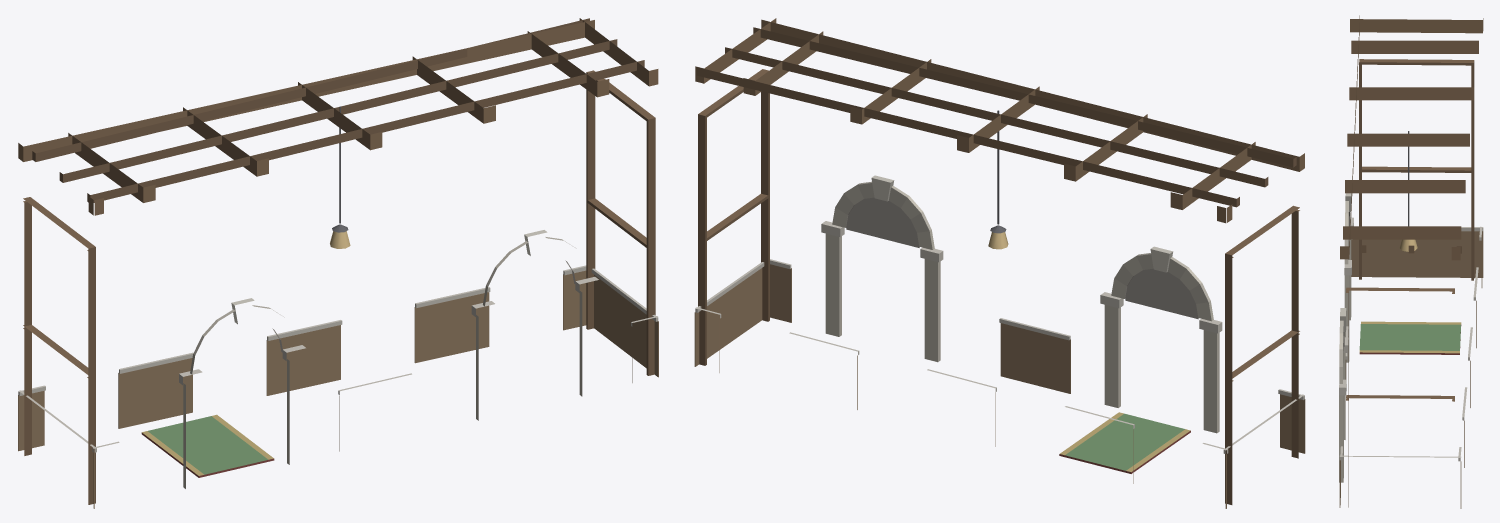
The model's file is interior_b077.glb.
The picture shows the model from 3 angles, left to right: view 1: azimuth 30°, elevation 25°; view 2: azimuth 150°, elevation 25°; view 3: azimuth 270°, elevation 25°; orthographic projection. The views are drawn at different scales.
Visible parts, largest first — view 1: Interior_B077_mesh; view 2: Interior_B077_mesh; view 3: Interior_B077_mesh.
Boxes of the visible parts, box(x1,y1,x2,y2) form: Interior_B077_mesh: box(18, 18, 658, 508); Interior_B077_mesh: box(694, 18, 1305, 508); Interior_B077_mesh: box(1339, 15, 1483, 508).
Size of the model in its own units: 12.15 by 6.35 by 3.25.
